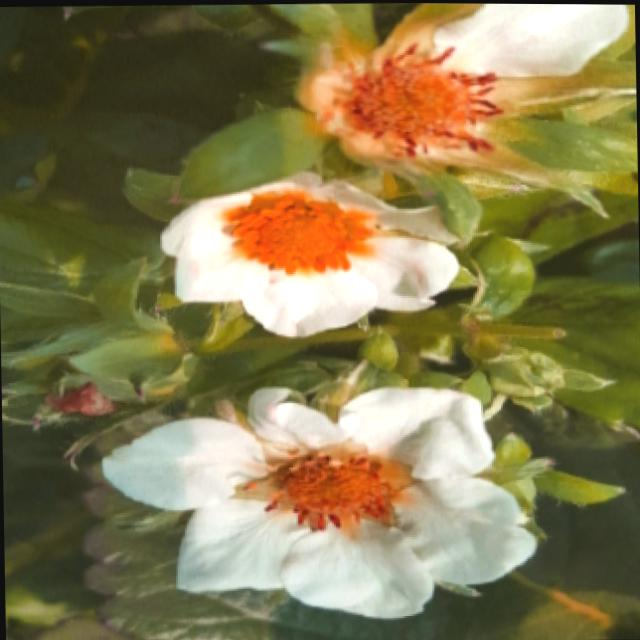Blossom Blight: (315, 34, 508, 161), (228, 437, 420, 538)
